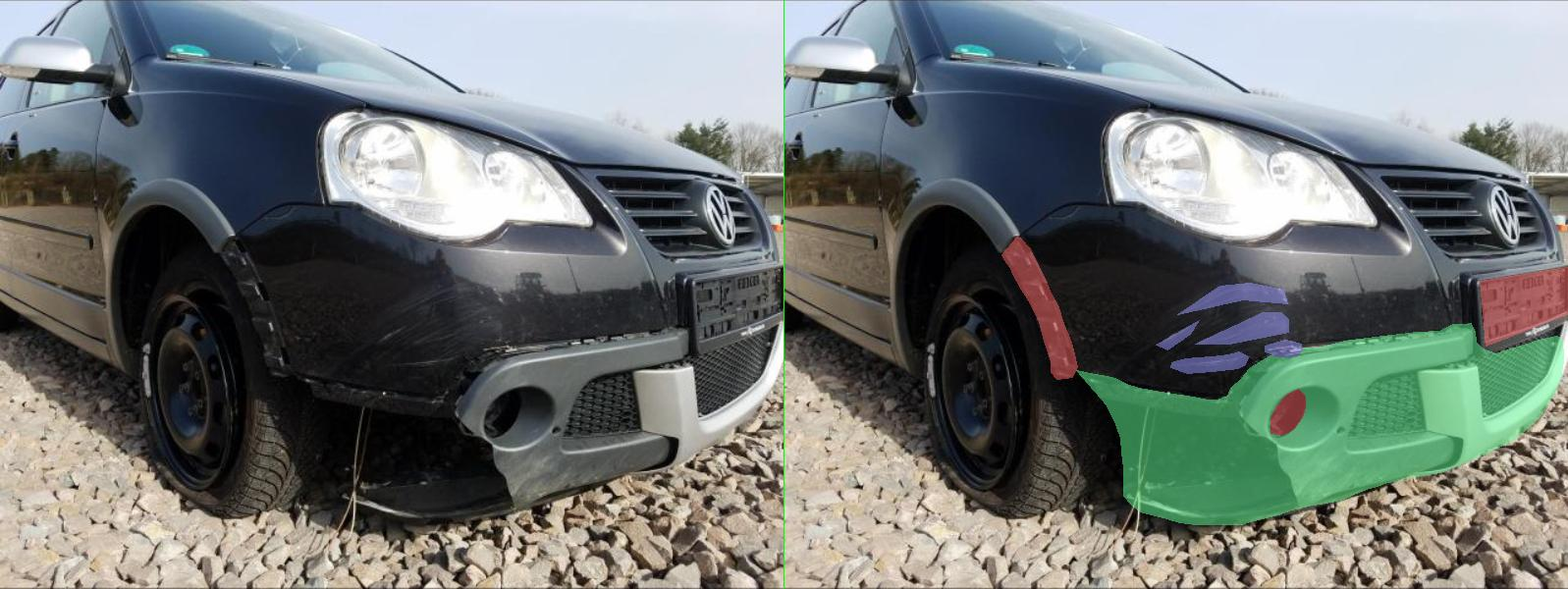Broken part: (584, 323, 1558, 524)
Missing part: (434, 236, 586, 379), (1391, 267, 1566, 346), (973, 389, 1041, 435)
Scratch: (786, 283, 1006, 314), (821, 312, 1008, 344), (772, 351, 929, 373), (743, 320, 829, 349), (961, 340, 1036, 356)
